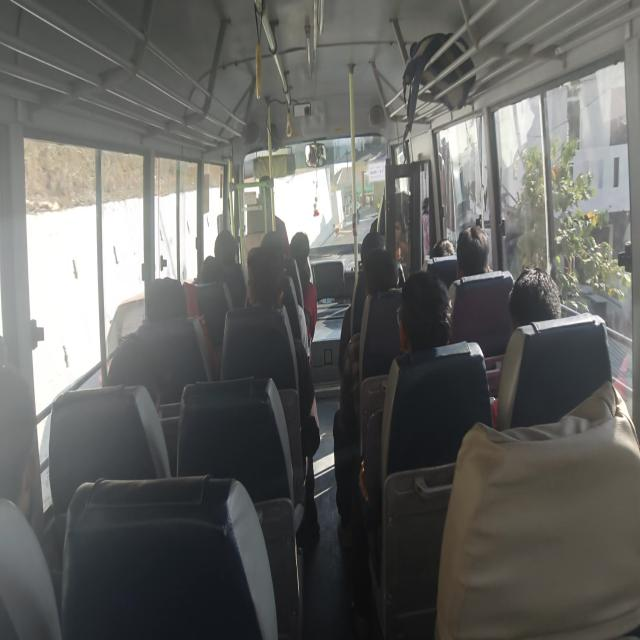person: (0, 398, 65, 574), (119, 321, 162, 418), (394, 277, 449, 347), (492, 275, 556, 325), (250, 240, 286, 322), (150, 271, 190, 340), (458, 220, 501, 281), (367, 256, 403, 299), (290, 222, 316, 274), (359, 234, 388, 273), (266, 234, 292, 275), (220, 228, 244, 272), (431, 234, 461, 266), (198, 254, 228, 285)
